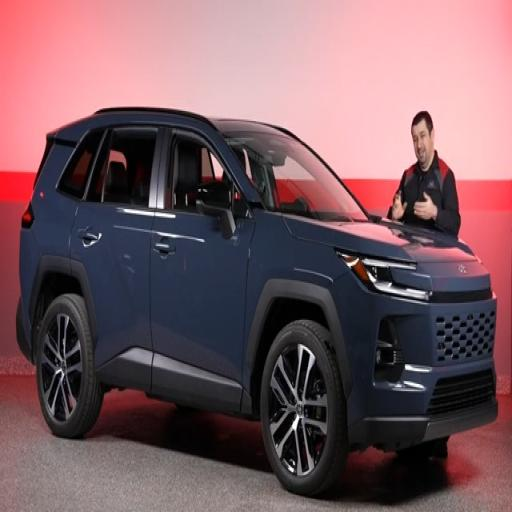bumper: (349, 397, 497, 450), (16, 298, 31, 361)
door: (151, 133, 254, 411), (70, 127, 162, 391)
emblem: (458, 265, 466, 274)
grille: (436, 309, 495, 364), (428, 370, 495, 415)
headlight: (336, 251, 431, 301)
hood: (284, 217, 490, 292), (284, 217, 476, 263)
side_mirror: (196, 181, 235, 238)
taillight: (22, 202, 34, 228)
tire: (396, 437, 448, 462)
wheel: (260, 320, 348, 494), (36, 295, 103, 438)
window: (165, 136, 247, 216), (88, 127, 157, 206), (58, 131, 103, 199)
windshield: (225, 133, 367, 221)
